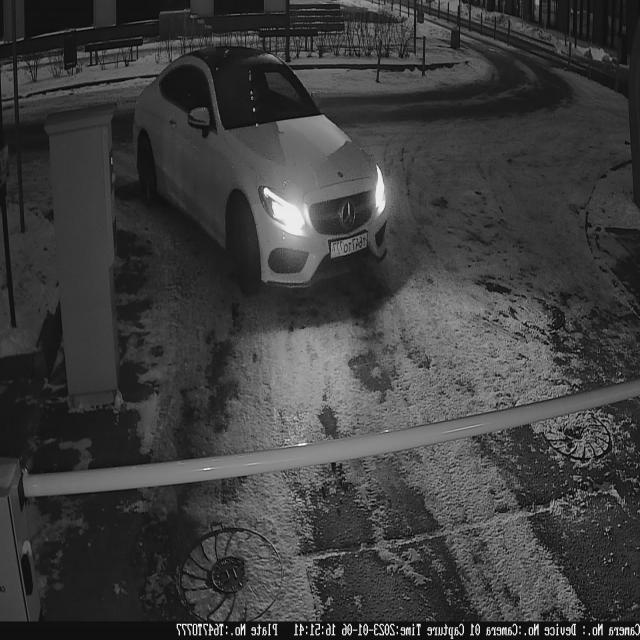car-plate-numbers: (327, 227, 371, 265)
